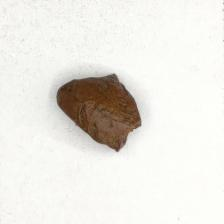NG: (110, 64, 142, 152)
